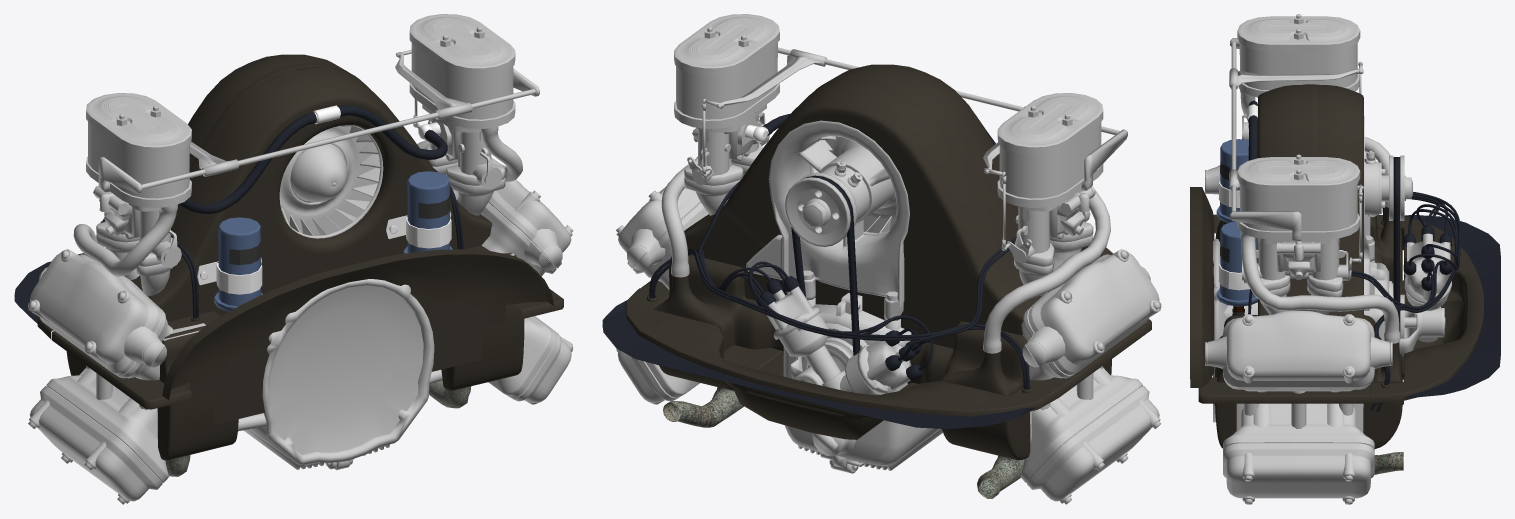
File: Bug.Engine587.dae
3 renders of one model, left to right at view 1: azimuth 30°, elevation 25°; view 2: azimuth 150°, elevation 25°; view 3: azimuth 270°, elevation 25°, orthographic. The views are drawn at different scales.
Parts seen in each view (by area): view 1: bug_engine_587_cylinders, bug_engine_587_fan_cover, bug_engine_587_cover, bug_engine_587_crank_case, bug_engine_587_dualcarburetor_filter, bug_engine_587_cylinders_cover, bug_engine_587_fan, bug_engine_587_ignition_coil, bug_engine_587_dualcarburetor, bug_engine_587_dualcarburetor_linkage, bug_engine_587_dualcarburetor_oil_tube, bug_engine_587_dualcarburetor_intake_tubing (+2 smaller); view 2: bug_engine_587_fan_cover, bug_engine_587_cylinders, bug_engine_587_dualcarburetor_filter, bug_engine_587_cover_front, bug_engine_587_fan_housing, bug_engine_587_cylinders_cover, bug_engine_587_dualcarburetor, bug_engine_587_ignition, bug_engine_587_cover, bug_engine_587_crank_case, bug_engine_587_ignition_cable, bug_engine_587_dualcarburetor_intake_tubing (+7 smaller); view 3: bug_engine_587_cylinders, bug_engine_587_dualcarburetor_filter, bug_engine_587_cover, bug_engine_587_fan_cover, bug_engine_587_cover_front, bug_engine_587_dualcarburetor, bug_engine_587_cylinders_cover, bug_engine_587_dualcarburetor_intake_tubing, bug_engine_587_dualcarburetor_linkage, bug_engine_587_ignition_coil, bug_engine_587_ignition_cable, bug_engine_587_crank_case (+8 smaller).
Boxes of the visible parts, <box> form: bug_engine_587_cylinders: <box>28,162,573,504</box>; bug_engine_587_fan_cover: <box>131,54,492,321</box>; bug_engine_587_cover: <box>14,247,563,424</box>; bug_engine_587_crank_case: <box>243,279,434,470</box>; bug_engine_587_dualcarburetor_filter: <box>86,14,515,207</box>; bug_engine_587_cylinders_cover: <box>66,245,524,460</box>; bug_engine_587_fan: <box>279,125,383,238</box>; bug_engine_587_ignition_coil: <box>197,171,452,311</box>; bug_engine_587_dualcarburetor: <box>93,104,505,267</box>; bug_engine_587_dualcarburetor_linkage: <box>98,49,539,193</box>; bug_engine_587_dualcarburetor_oil_tube: <box>178,105,447,213</box>; bug_engine_587_dualcarburetor_intake_tubing: <box>73,127,522,276</box>; bug_engine_587_fan_cover: <box>684,64,1041,348</box>; bug_engine_587_cylinders: <box>616,162,1161,504</box>; bug_engine_587_dualcarburetor_filter: <box>674,14,1103,207</box>; bug_engine_587_cover_front: <box>625,288,1057,439</box>; bug_engine_587_fan_housing: <box>746,120,909,330</box>; bug_engine_587_cylinders_cover: <box>657,255,1111,460</box>; bug_engine_587_dualcarburetor: <box>684,104,1096,266</box>; bug_engine_587_ignition: <box>756,276,922,395</box>; bug_engine_587_cover: <box>602,246,1151,429</box>; bug_engine_587_crank_case: <box>783,292,942,473</box>; bug_engine_587_ignition_cable: <box>649,179,1029,389</box>; bug_engine_587_dualcarburetor_intake_tubing: <box>661,156,1110,353</box>; bug_engine_587_cylinders: <box>1205,151,1392,504</box>; bug_engine_587_dualcarburetor_filter: <box>1237,14,1360,239</box>; bug_engine_587_cover: <box>1190,187,1500,403</box>; bug_engine_587_fan_cover: <box>1258,84,1363,318</box>; bug_engine_587_cover_front: <box>1370,214,1483,404</box>; bug_engine_587_dualcarburetor: <box>1242,114,1351,291</box>; bug_engine_587_cylinders_cover: <box>1215,206,1402,448</box>; bug_engine_587_dualcarburetor_intake_tubing: <box>1240,90,1400,343</box>; bug_engine_587_dualcarburetor_linkage: <box>1229,38,1363,262</box>; bug_engine_587_ignition_coil: <box>1216,139,1257,315</box>; bug_engine_587_ignition_cable: <box>1248,159,1460,412</box>; bug_engine_587_crank_case: <box>1213,239,1444,422</box>.
Size of the model in its own units: 0.8577 by 0.5312 by 0.6168.
